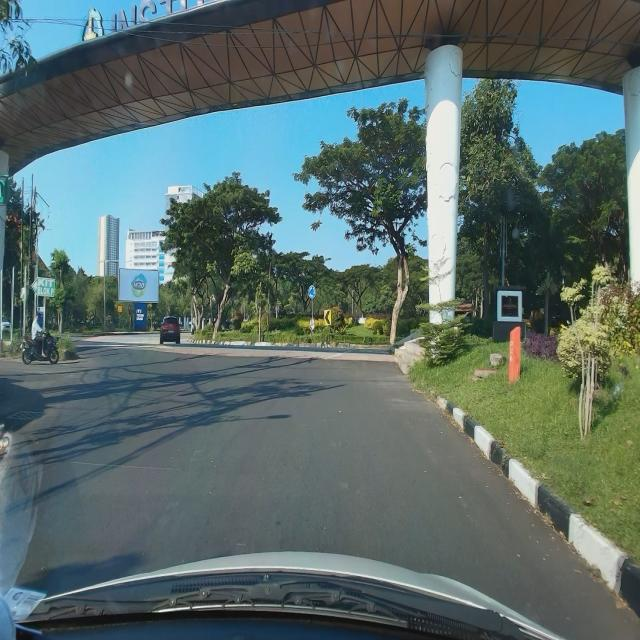car: (159, 315, 182, 346)
license-plate: (168, 330, 174, 333)
